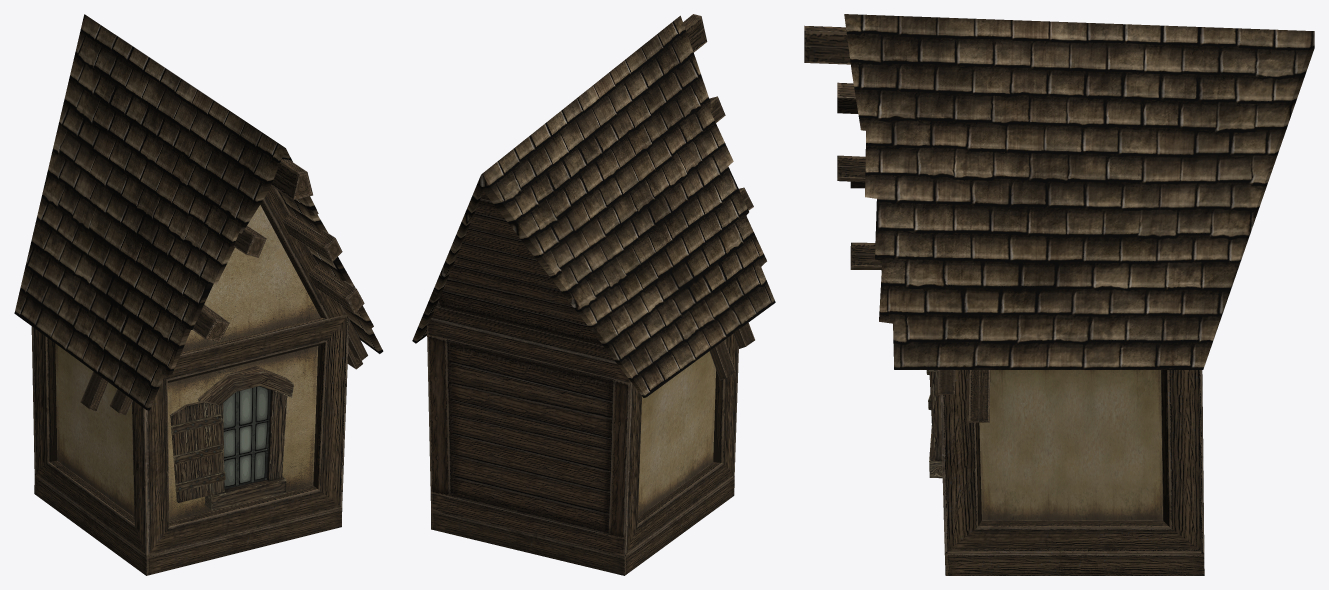
File: Window_a07.fbx
3 renders of one model, left to right at view 1: azimuth 30°, elevation 25°; view 2: azimuth 150°, elevation 25°; view 3: azimuth 270°, elevation 25°, orthographic. The views are drawn at different scales.
Parts seen in each view (by area): view 1: Window_a07; view 2: Window_a07; view 3: Window_a07.
Part boxes in pixels (box(x1,y1,x2,y2)): Window_a07: box(14, 14, 383, 575); Window_a07: box(412, 14, 775, 575); Window_a07: box(804, 14, 1314, 575).
Bounding box in the file's own units: 3.87 × 6.25 × 5.72.
